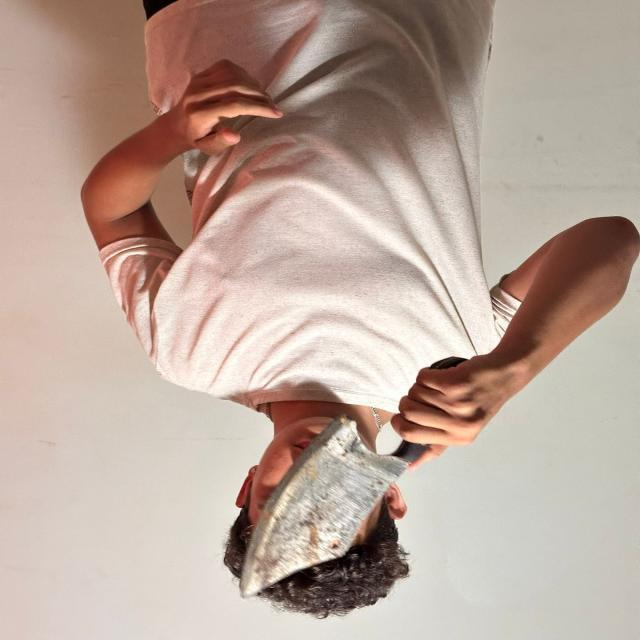knife: (242, 414, 398, 596)
